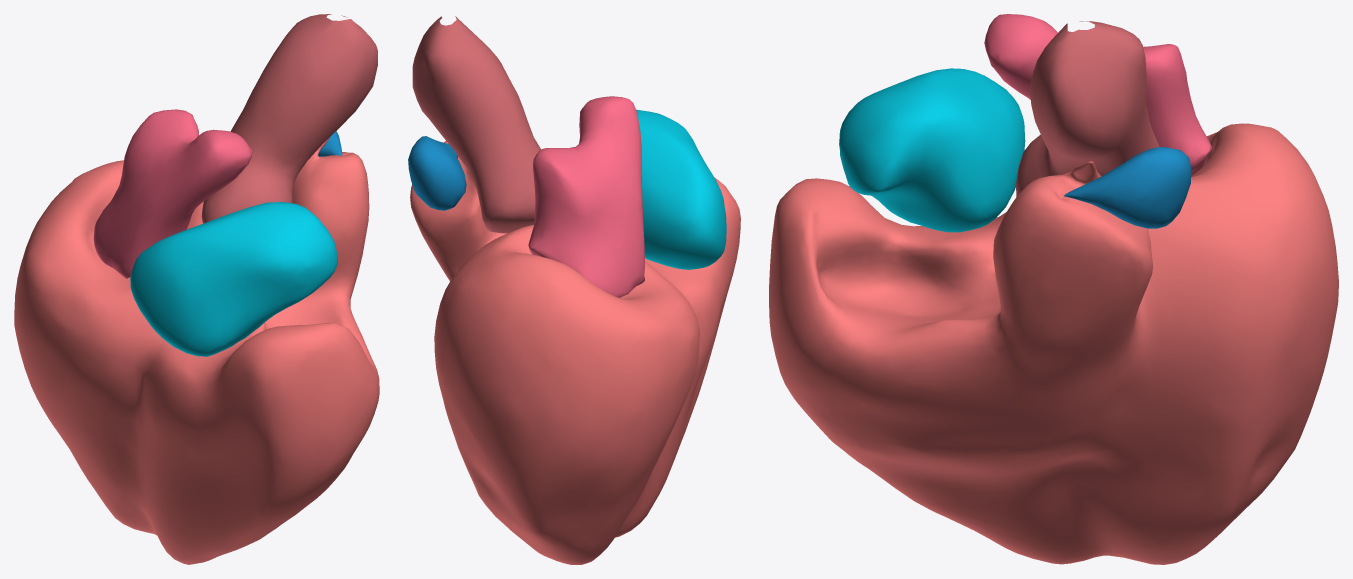
Rendered from frame_69.glb.
3 views of the same model, side by side, from view 1: azimuth 30°, elevation 25°; view 2: azimuth 150°, elevation 25°; view 3: azimuth 270°, elevation 25° (orthographic). The views are drawn at different scales.
Parts seen in each view (by area): view 1: Renderer Node; view 2: Renderer Node; view 3: Renderer Node.
Part boxes in pixels (<box>): Renderer Node: <box>14,14,379,564</box>; Renderer Node: <box>408,16,740,564</box>; Renderer Node: <box>769,14,1338,564</box>.
Bounding box in the file's own units: 101 × 159 × 128.
